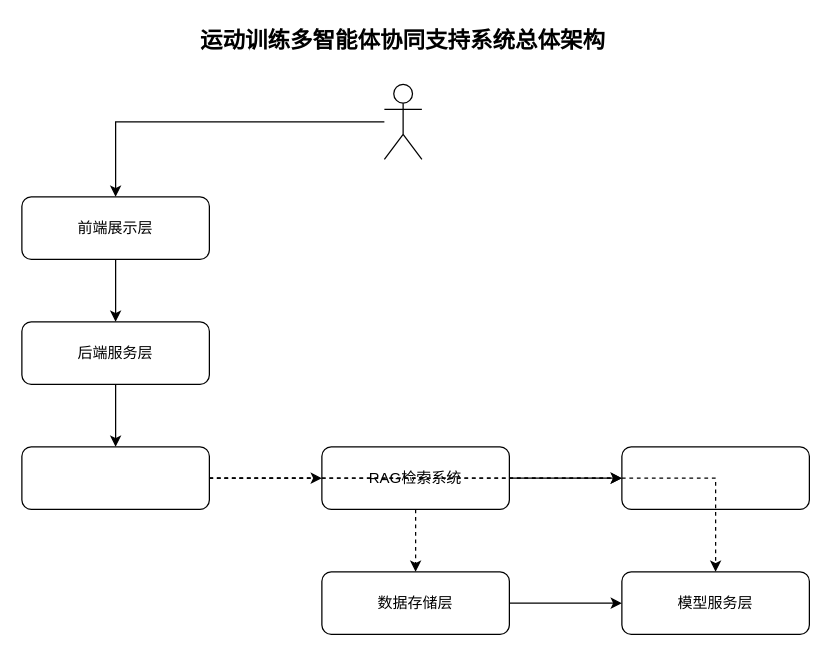
Some shapes in this 831 by 656 pixel diagram are drawn without their labels. The shapes that lost their labels are listed below. From the top down, each one's box as (x1, y1, x2, y2) in pixels, then its label:
(383, 83, 422, 159): 用户
(21, 446, 209, 509): 多智能体协同层
(621, 446, 809, 509): 记忆管理模块
